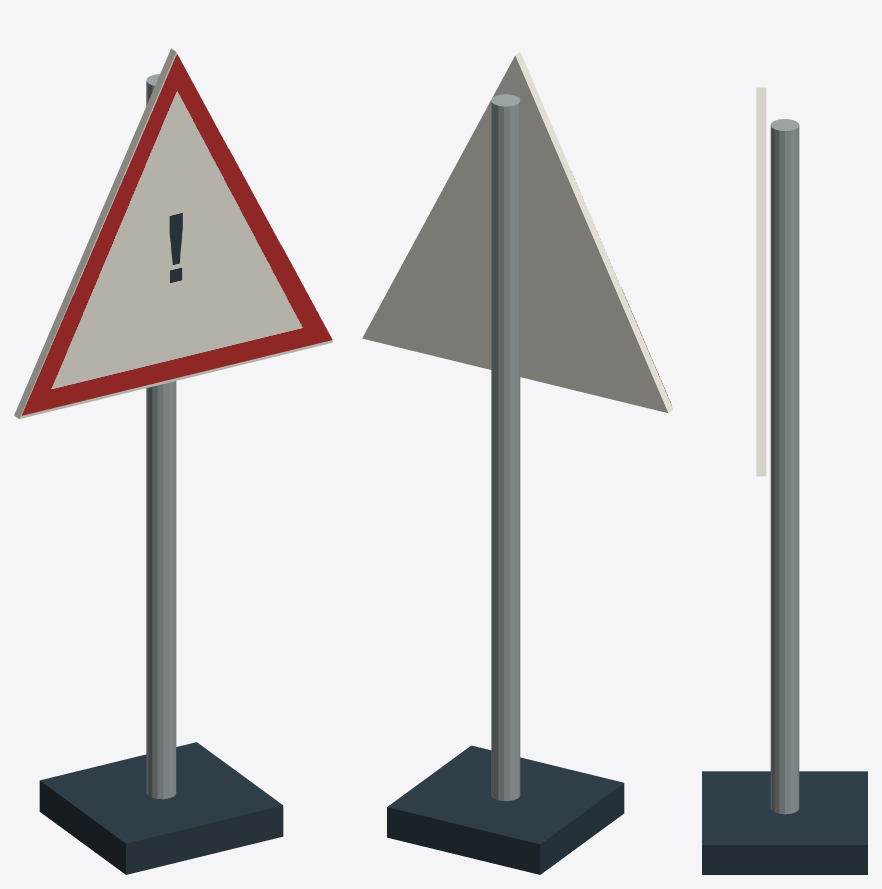
Rendered from scendance-plan-danger.glb.
The picture shows the model from 3 angles, left to right: view 1: azimuth 30°, elevation 25°; view 2: azimuth 150°, elevation 25°; view 3: azimuth 270°, elevation 25°; orthographic projection. The views are drawn at different scales.
Size of the model in its own units: 0.84 by 2 by 0.4.
Materials: 4 (1 with a texture image).
